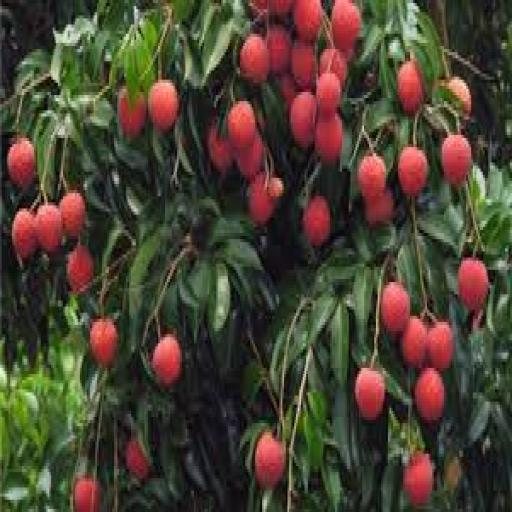lychee: (331, 0, 361, 55), (457, 258, 487, 312), (440, 135, 471, 187), (415, 368, 444, 423), (255, 433, 284, 487), (355, 368, 385, 420), (147, 80, 177, 131), (151, 335, 181, 386), (289, 92, 315, 150), (398, 148, 427, 199), (403, 454, 432, 505), (6, 138, 34, 190), (314, 114, 342, 165), (396, 62, 422, 116), (248, 172, 274, 226), (226, 102, 255, 150), (381, 283, 408, 334), (302, 197, 330, 245), (357, 154, 385, 202), (117, 89, 145, 137), (239, 34, 267, 82), (35, 203, 61, 254), (426, 322, 453, 370), (11, 209, 36, 260), (207, 123, 232, 174), (234, 135, 262, 180), (292, 0, 322, 42), (90, 319, 116, 367), (66, 246, 92, 294), (401, 316, 425, 367), (267, 25, 291, 76), (290, 40, 315, 88), (59, 191, 84, 239), (318, 46, 346, 88), (316, 71, 340, 116), (365, 191, 393, 226), (125, 439, 148, 481), (447, 77, 470, 116), (73, 479, 99, 511), (278, 74, 296, 110), (267, 0, 293, 18)
